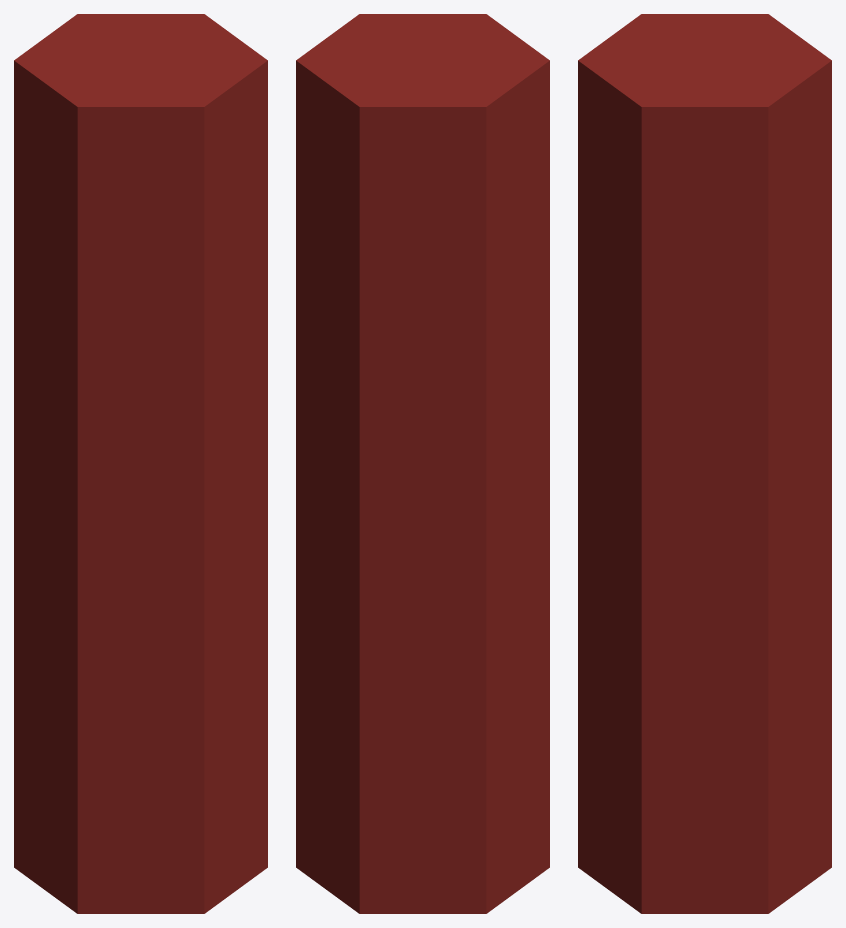
The model's file is tracking_object_4.dae.
3 renders of one model, left to right at view 1: azimuth 30°, elevation 25°; view 2: azimuth 150°, elevation 25°; view 3: azimuth 270°, elevation 25°, orthographic.
Parts seen in each view (by area): view 1: Cylinder; view 2: Cylinder; view 3: Cylinder.
Part boxes in pixels (x1,y1,x2,y2): Cylinder: (14, 14, 267, 913); Cylinder: (296, 14, 549, 913); Cylinder: (578, 14, 831, 913).
Size of the model in its own units: 0.6175 by 0.7131 by 2.5.
